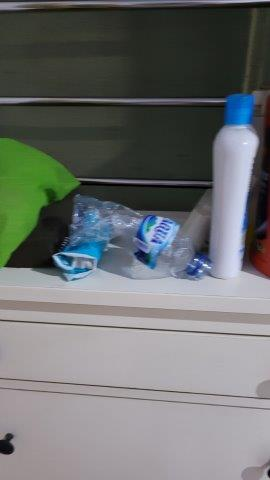botolplastik: (71, 195, 215, 286)
